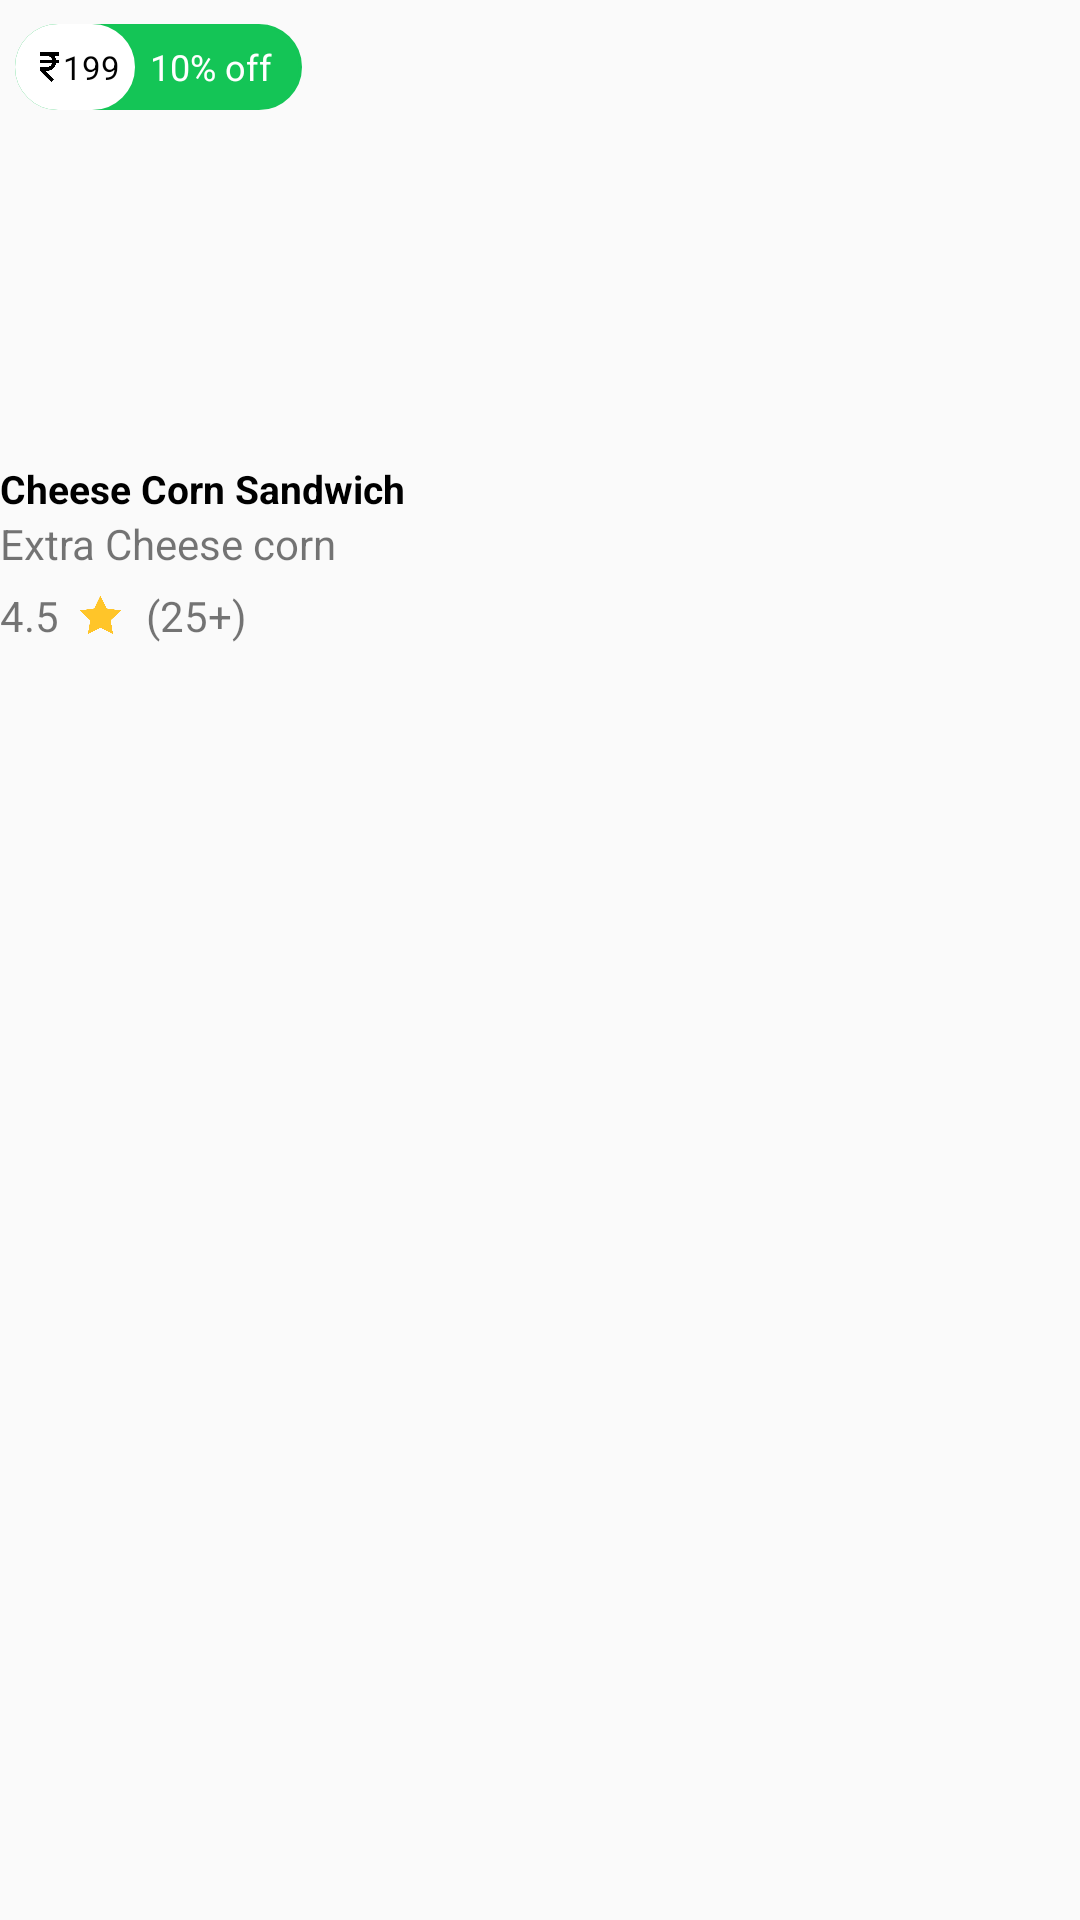

Named icons in this screenshot (1080 × 1920) and their bounding boxes, (x1, y1, x2, y2):
rupee: (40, 52, 59, 82)
star: (80, 596, 121, 634)
